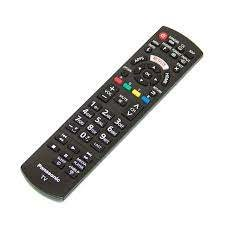remote control: (0, 0, 225, 216)
